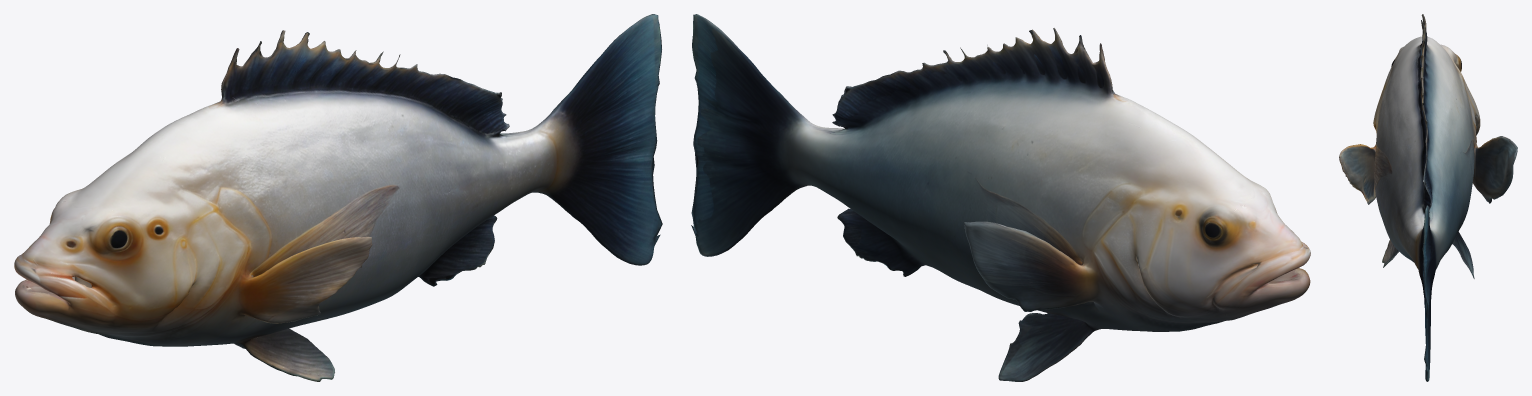
The model's file is realistic_fish.glb.
3 views of the same model, side by side, from view 1: azimuth 30°, elevation 25°; view 2: azimuth 150°, elevation 25°; view 3: azimuth 270°, elevation 25° (orthographic). The views are drawn at different scales.
Parts seen in each view (by area): view 1: Mesh1_Mesh1.015; view 2: Mesh1_Mesh1.015; view 3: Mesh1_Mesh1.015.
Boxes of the visible parts, x1,y1,x2,y2 form: Mesh1_Mesh1.015: (14,14,662,381); Mesh1_Mesh1.015: (691,14,1310,381); Mesh1_Mesh1.015: (1339,14,1517,381).
Bounding box in the file's own units: 1.99 × 1.03 × 0.678.
1 material, 1 textured.
